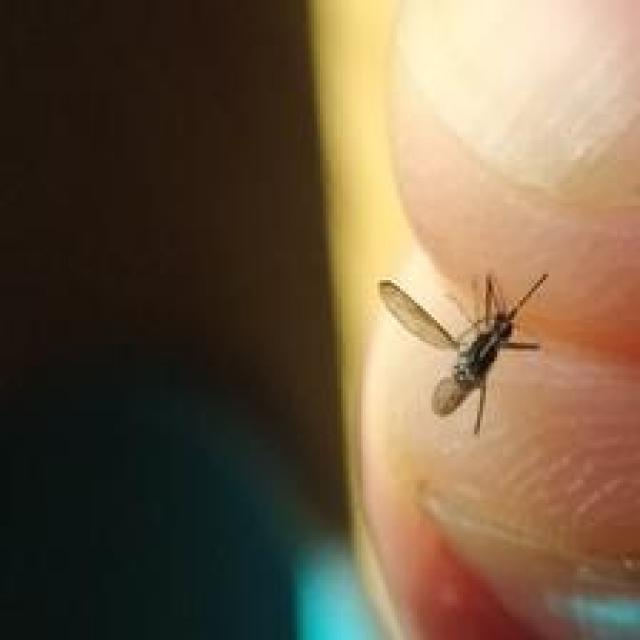Aedes albopictus: (376, 270, 550, 436)
